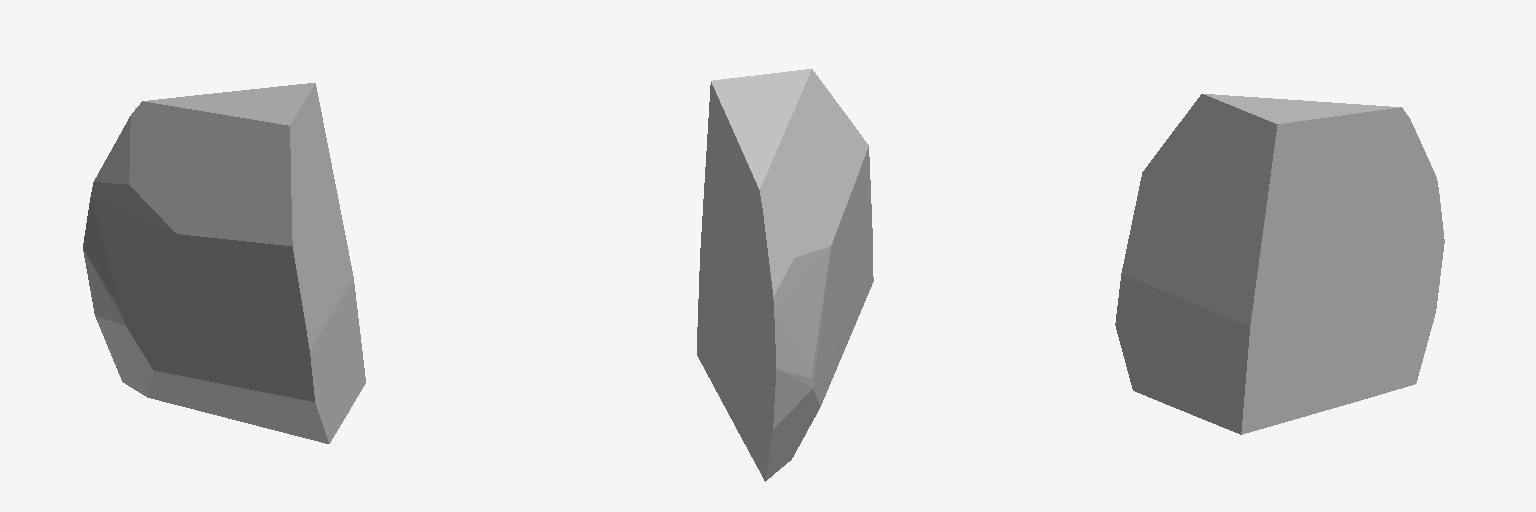
The model's file is li-fang-ti-.001_cell.006.obj.
The picture shows the model from 3 angles: view 1: azimuth 30°, elevation 25°; view 2: azimuth 150°, elevation 25°; view 3: azimuth 270°, elevation 25°; orthographic projection.
Parts seen in each view (by area): view 1: 立方体.001_cell.006; view 2: 立方体.001_cell.006; view 3: 立方体.001_cell.006.
Boxes of the visible parts, <box> form: 立方体.001_cell.006: <box>83,83,365,443</box>; 立方体.001_cell.006: <box>697,69,873,481</box>; 立方体.001_cell.006: <box>1115,94,1444,434</box>.
Size of the model in its own units: 0.2115 by 0.3562 by 0.3323.